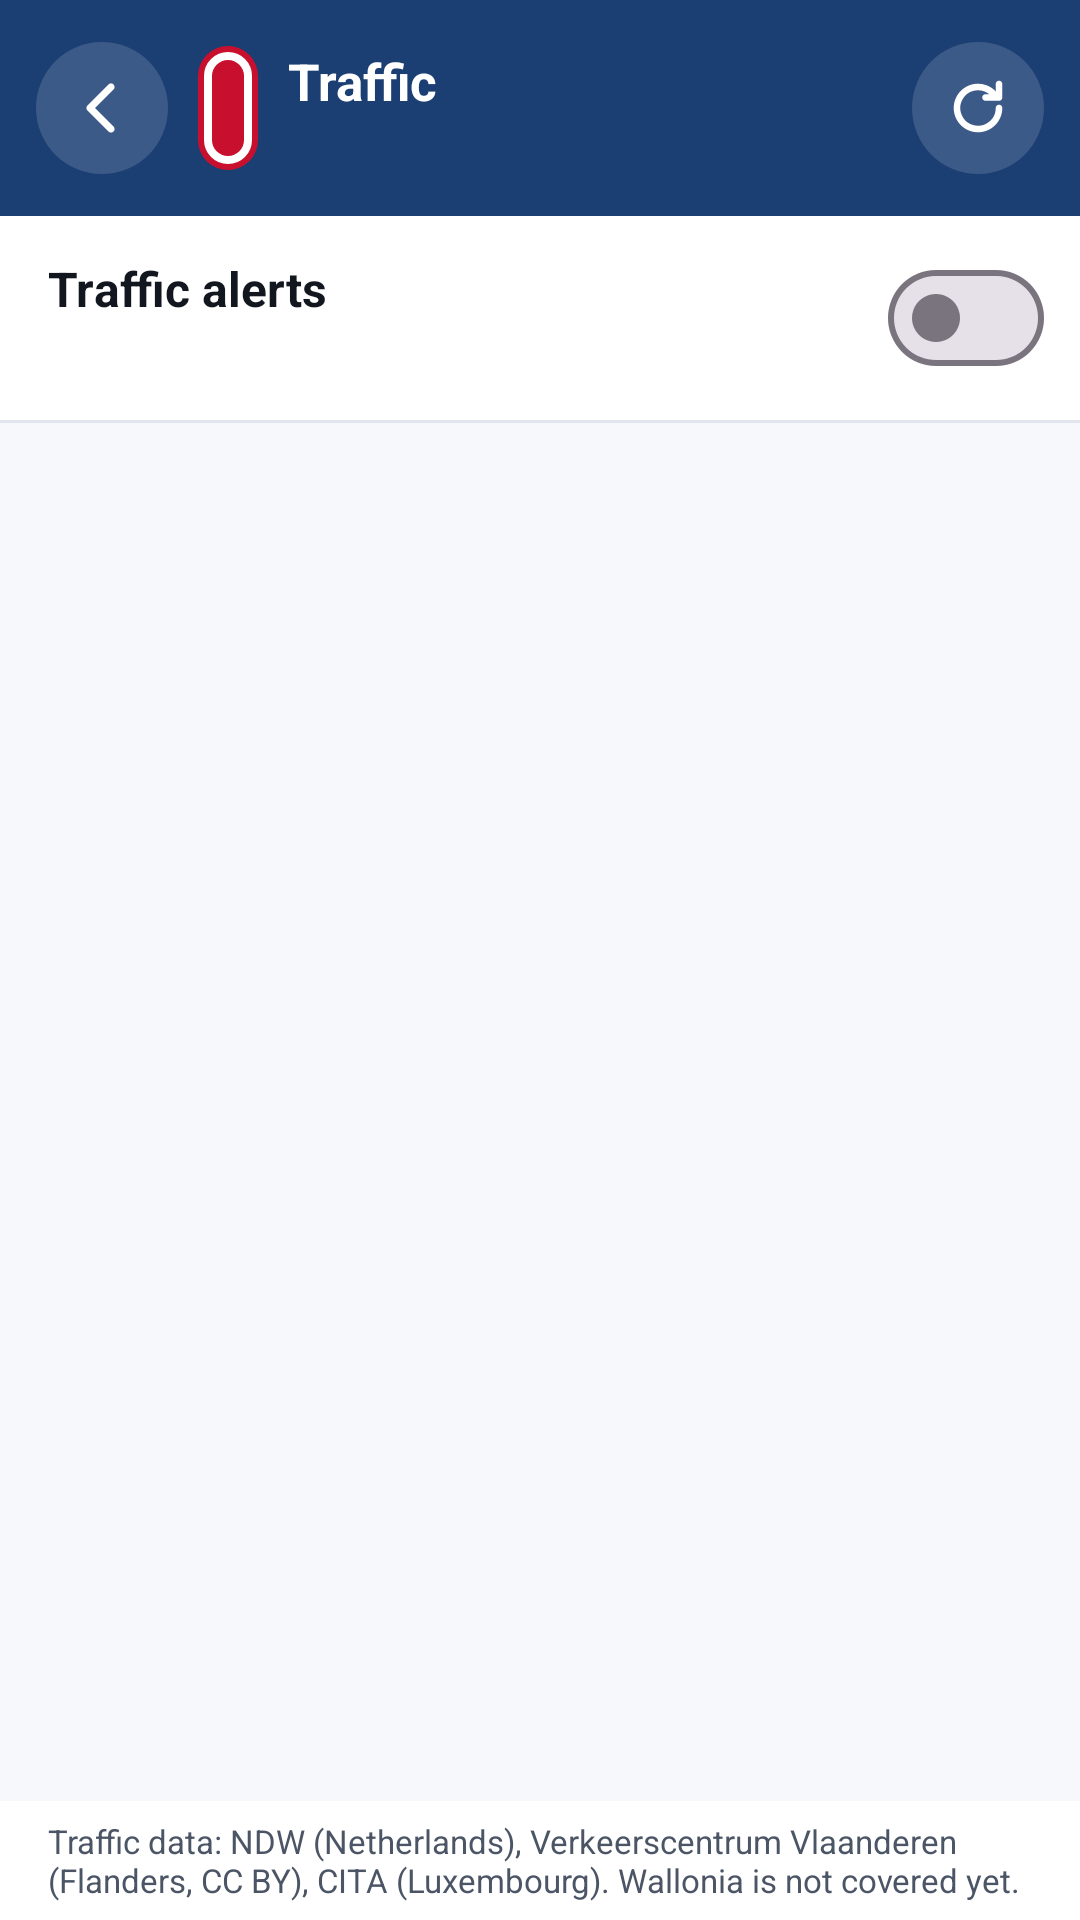

Icon click points for this 1080 x 1920 phone screenshot, format [x,y]:
Back: [102,108]
Refresh: [978,108]
